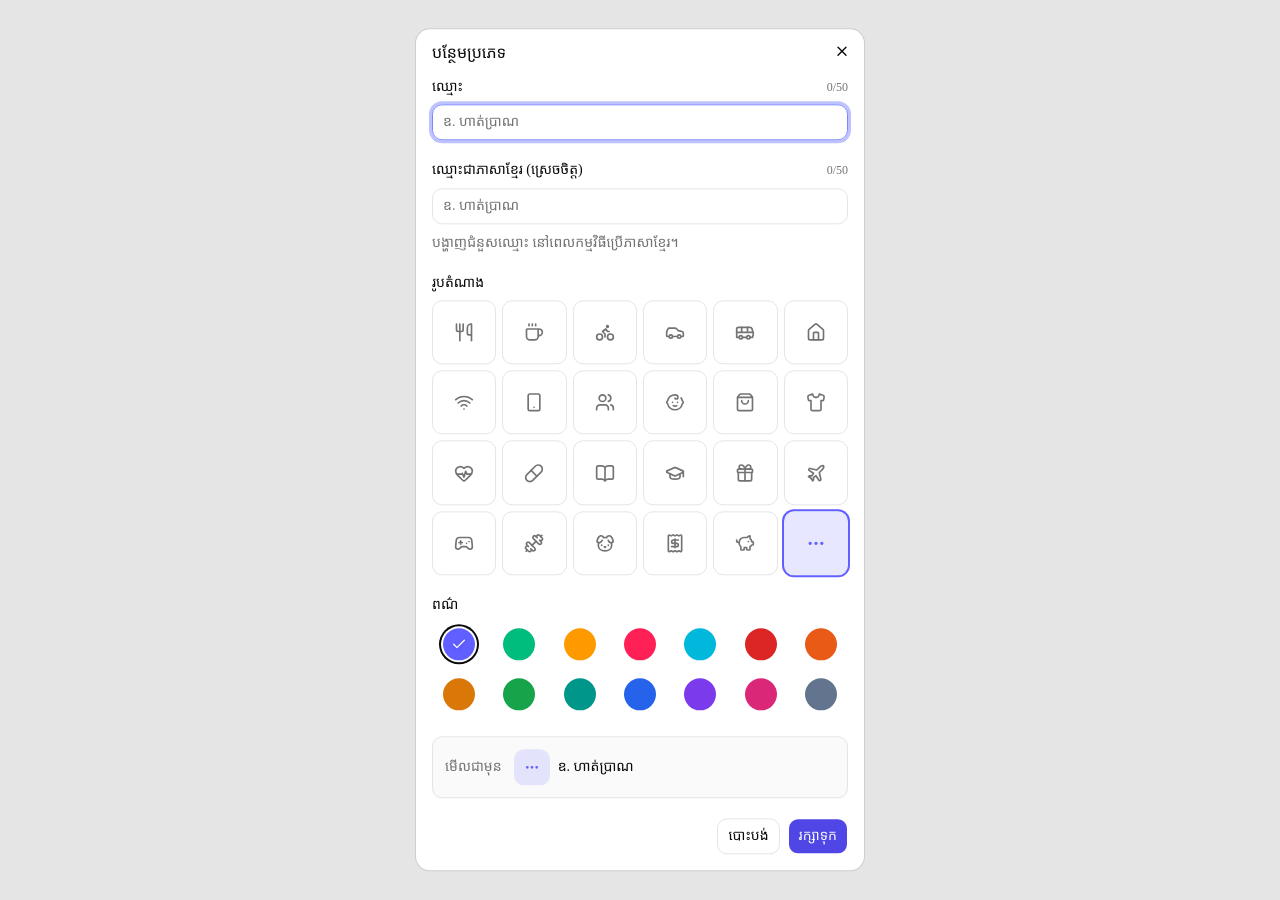
Test: CategoryFormDialog › shows validation in Khmer
Click the button "រក្សាទុក" at (818, 837), box [788,819,848,855]
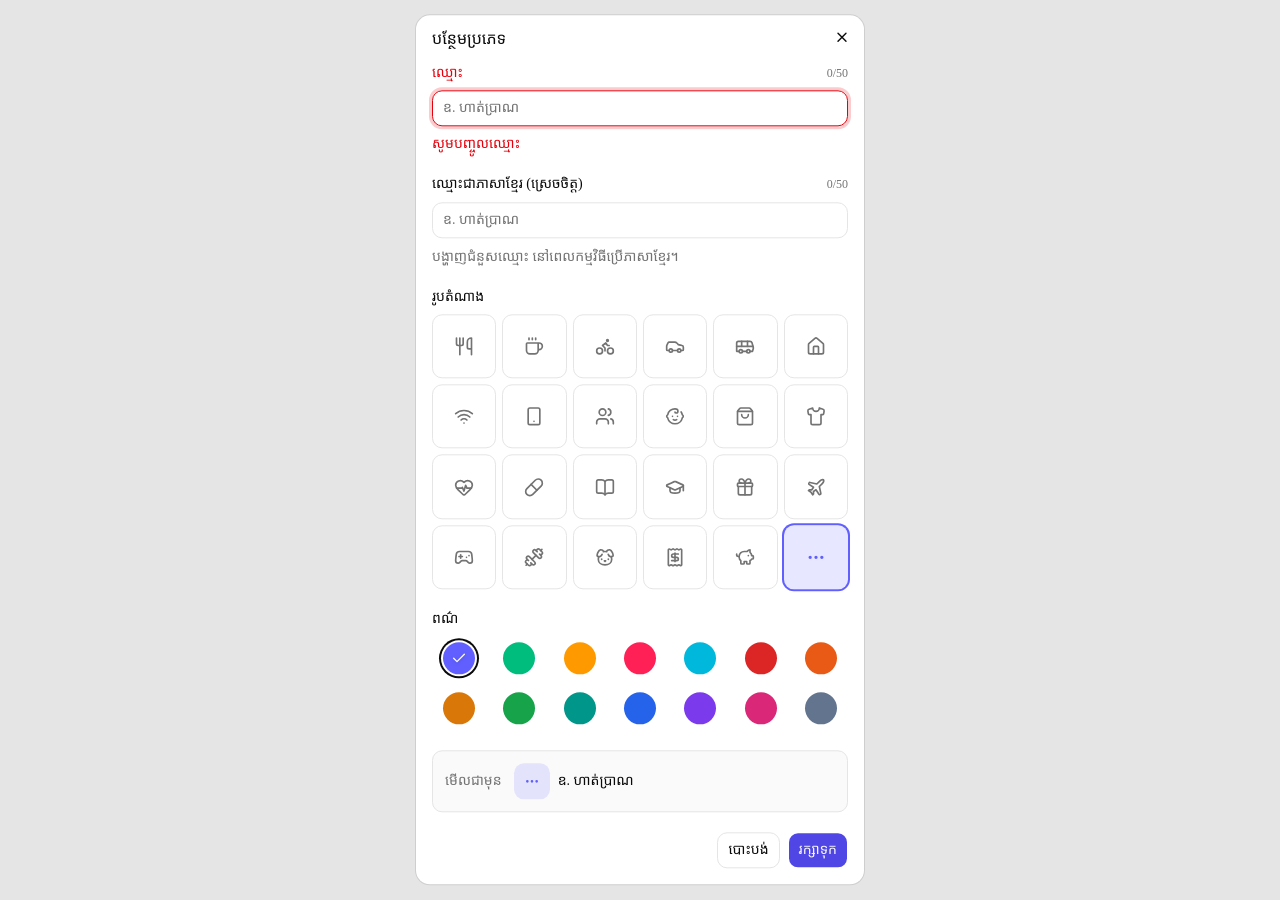
Check: the text "សូមបញ្ចូលឈ្មោះ" is shown, box [432,137,520,152]
